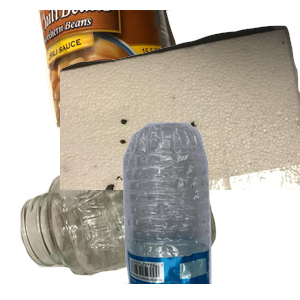glass: (18, 143, 227, 300)
metal: (34, 10, 213, 135)
plastic: (111, 120, 300, 300)
trash: (60, 23, 300, 203)
